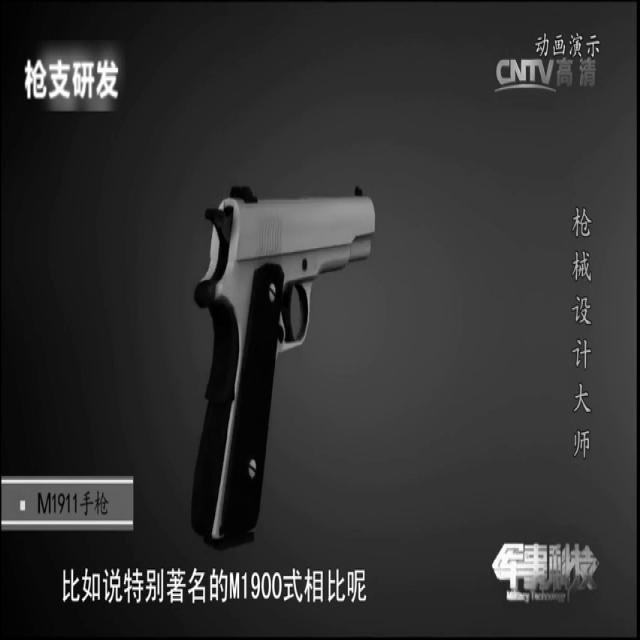Hand-Gun: (160, 171, 401, 565)
